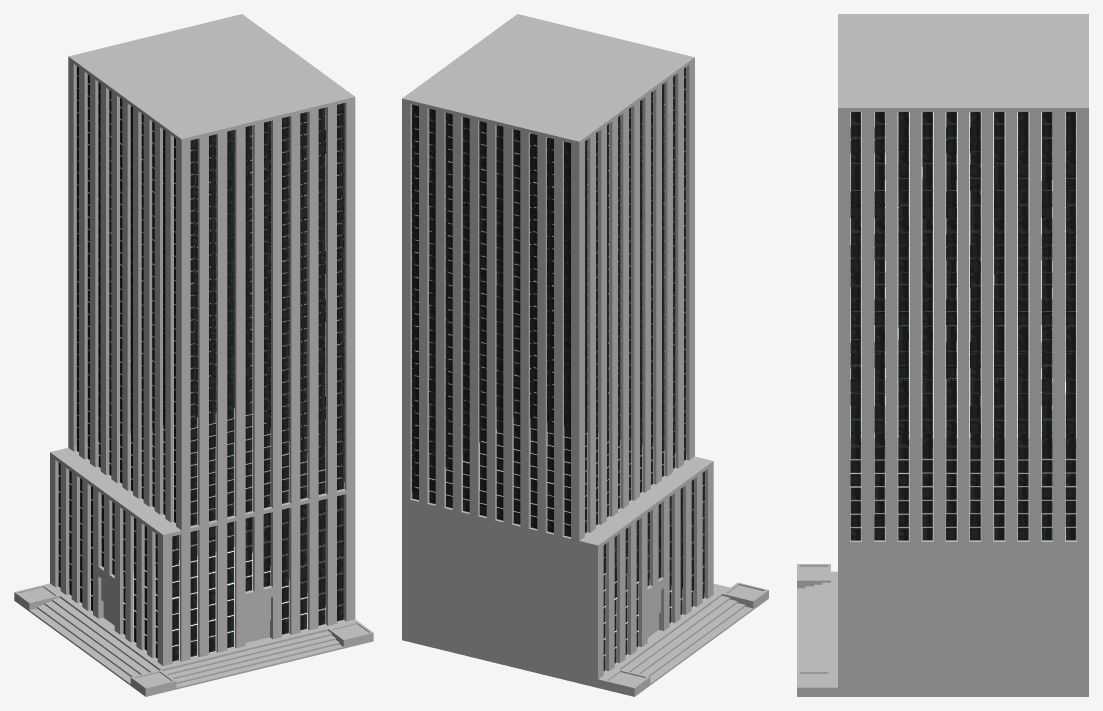
3 views of the same model, side by side, from view 1: azimuth 30°, elevation 25°; view 2: azimuth 150°, elevation 25°; view 3: azimuth 270°, elevation 25° (orthographic). The views are drawn at different scales.
Parts seen in each view (by area): view 1: EC-004; view 2: EC-004; view 3: EC-004.
Boxes of the visible parts, x1=… form: EC-004: x1=14, y1=14, x2=373, y2=696; EC-004: x1=402, y1=14, x2=768, y2=696; EC-004: x1=797, y1=14, x2=1088, y2=696.
Size of what is drawn, in the model's own units: 36 by 80.12 by 36.
